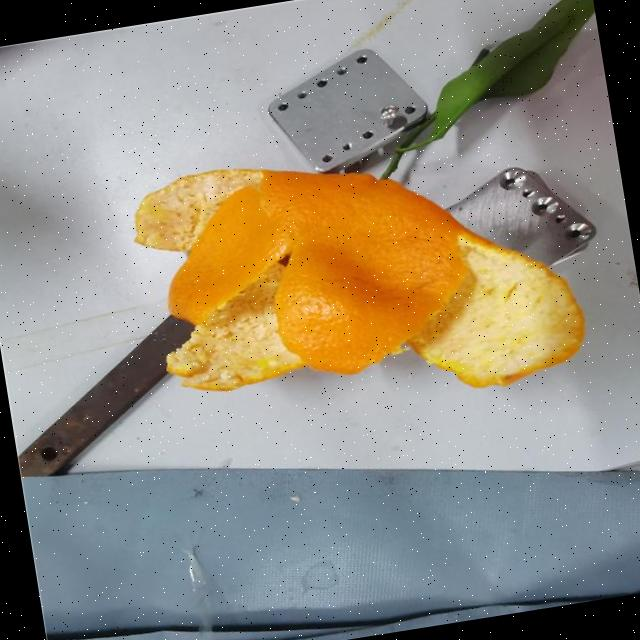orange-peel: (147, 139, 486, 401)
